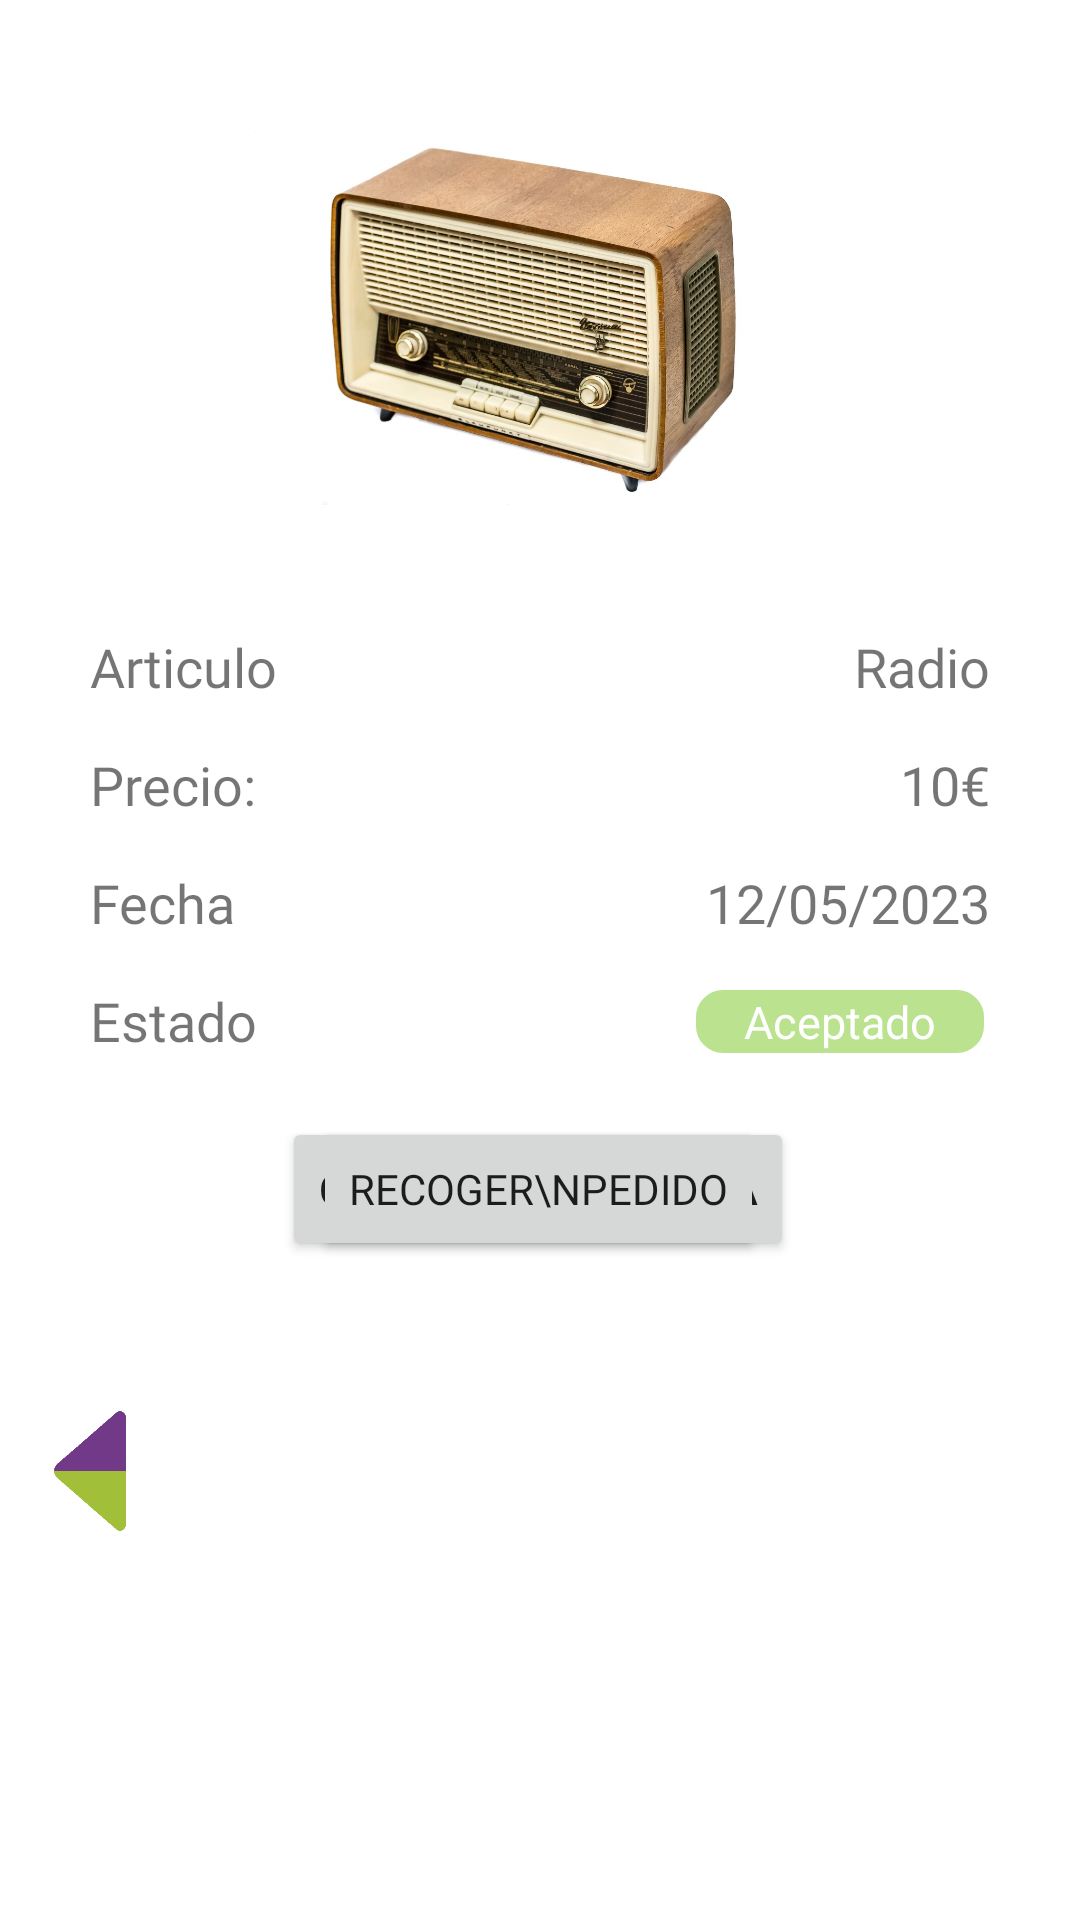

Screen size 1080 x 1920. Icon name, then its center in pixels as point (x, y):
volver sc: point (90, 1471)
